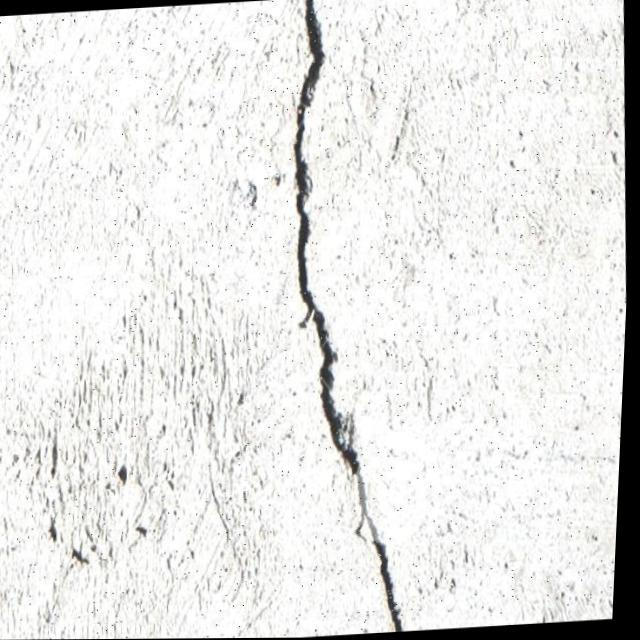Crack: (255, 0, 439, 638)
